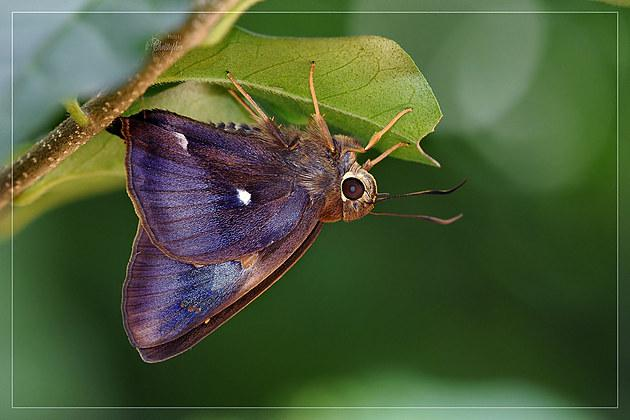Hesperiidae: (115, 60, 469, 366)
